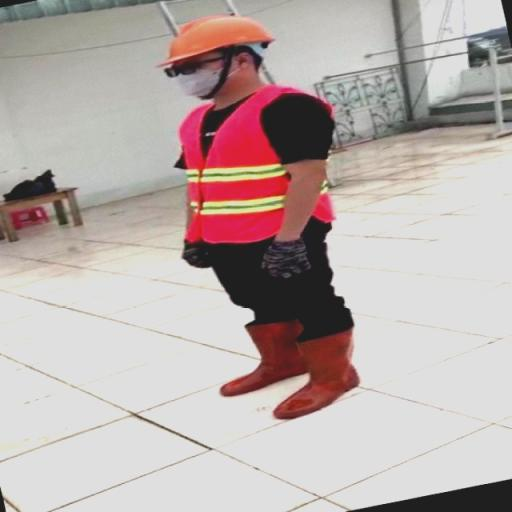Person: (139, 9, 389, 425)
boots: (278, 334, 366, 426), (217, 319, 296, 400)
gloves: (256, 242, 312, 284), (174, 235, 208, 270)
goggles: (148, 58, 241, 76)
helmet: (162, 20, 279, 64)
vest: (162, 88, 328, 242)
